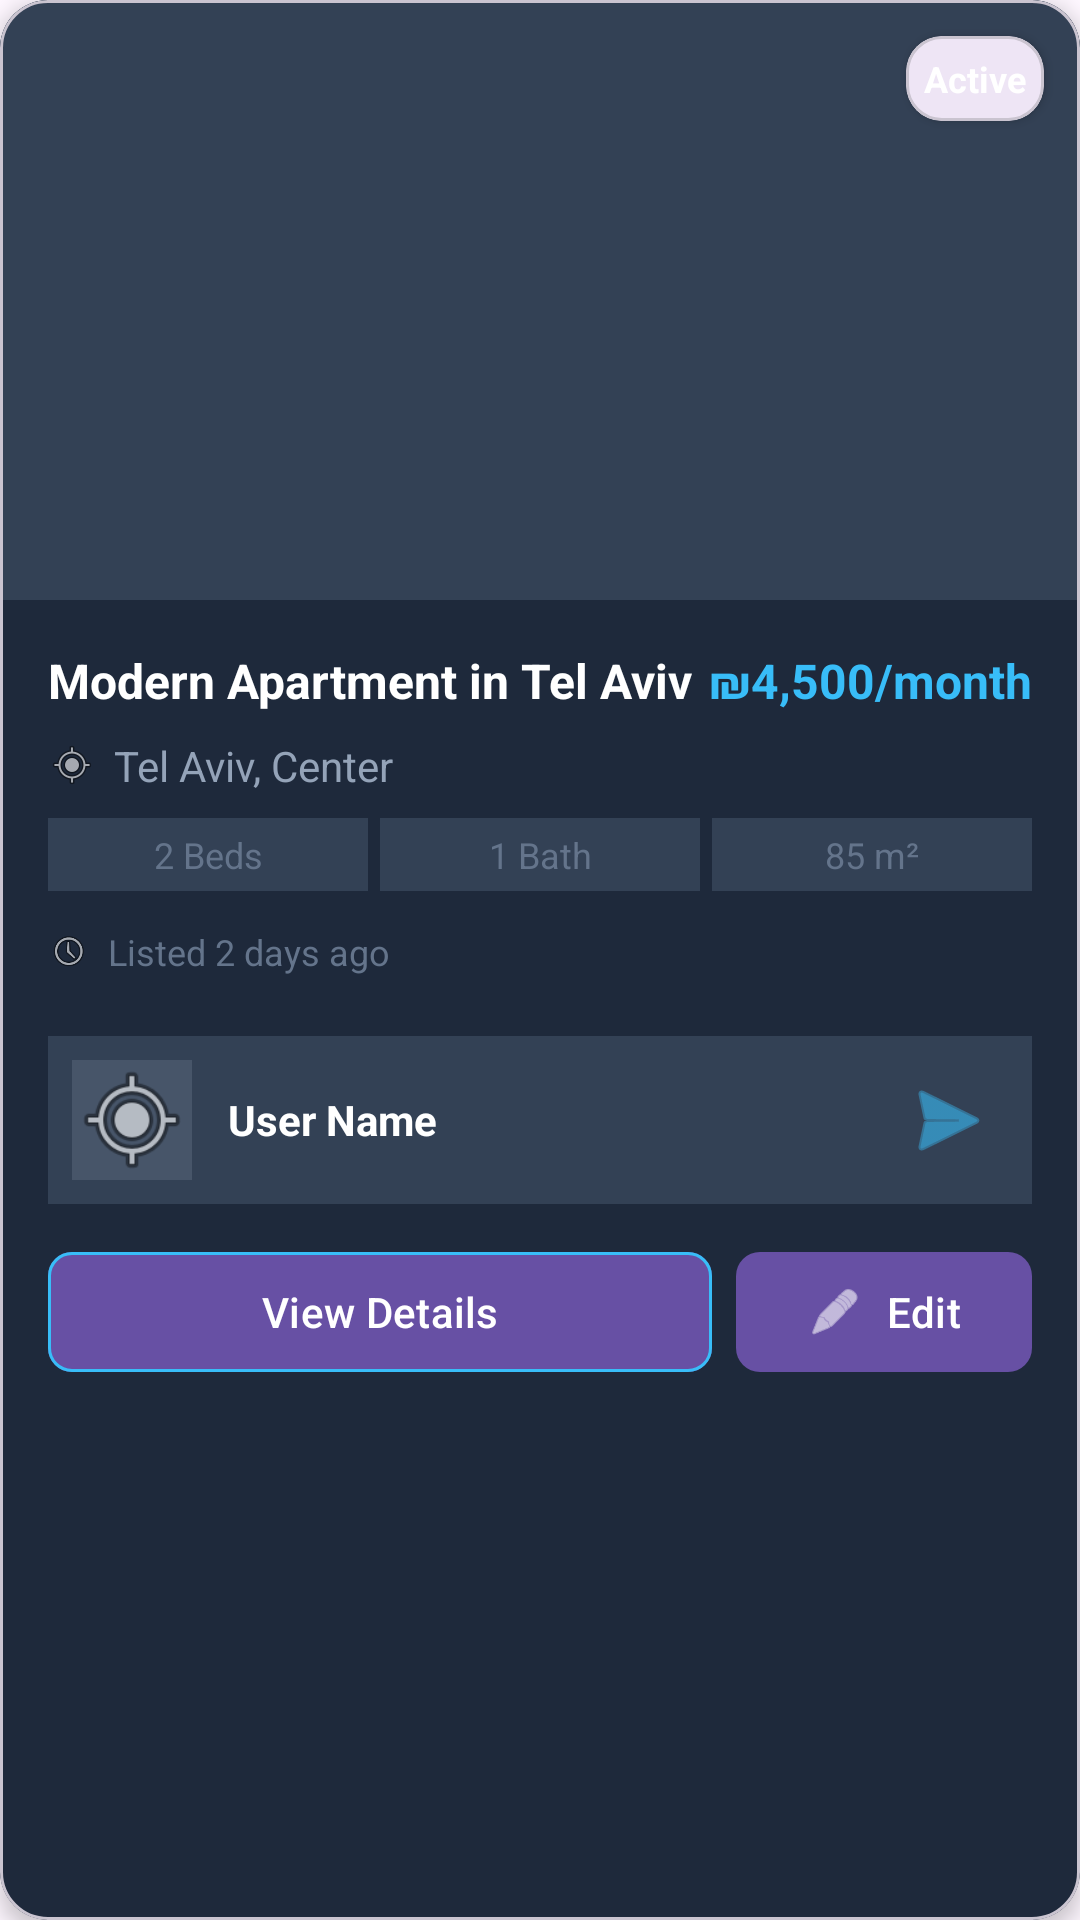

Icon click points for this 1080 × 1920 phone screenshot, format point (x, y):
mylocation: point (71, 765), point (132, 1120)
recent history: point (68, 951)
